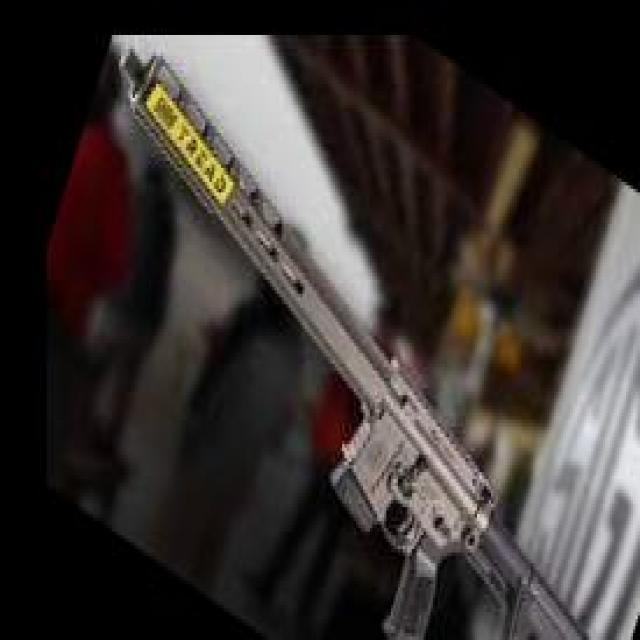weapon: (116, 46, 590, 640)
